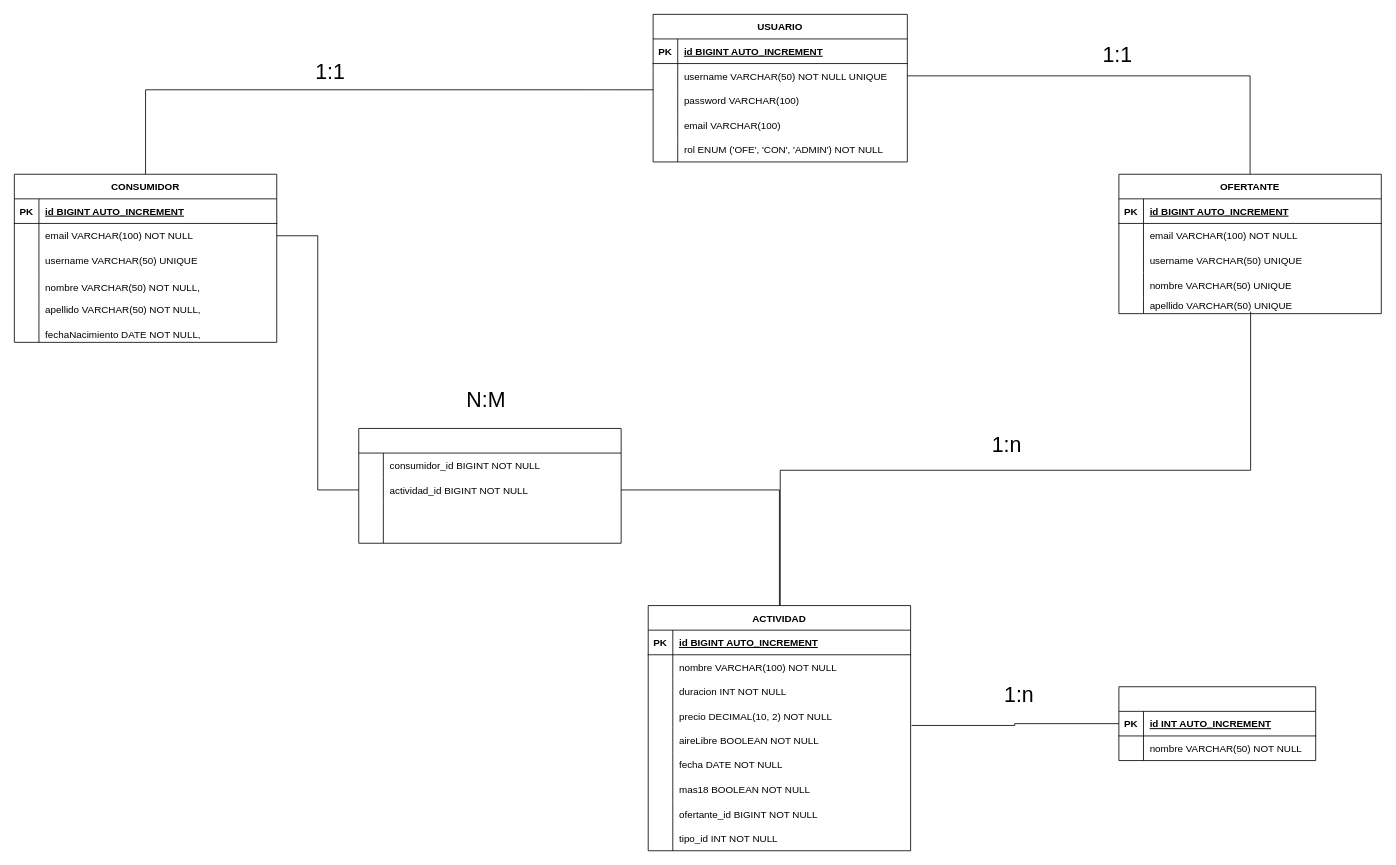
This 1396x865 diagram has some shape labels left out. The shapes that lost their labels are listed below. From the top down, each one's box as (x1, y1, x2, y2) in pixels, then its label:
(358, 428, 621, 543): CONSUMO_ACTIVIDAD
(1118, 686, 1316, 761): TIPO
